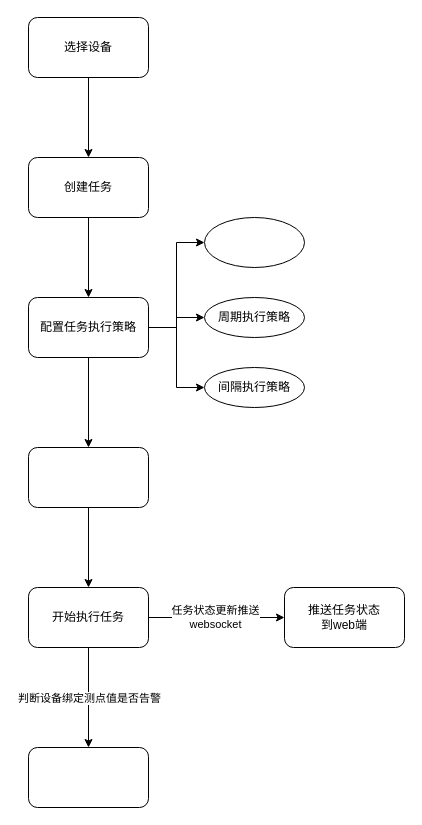
Image size: 422x825. Some labels were removed from this diagram. Here are the shapes that lost their labels. From the top down, the box of each, then its label:
(204, 216, 304, 268): 定期执行策略
(28, 446, 148, 508): 根据执行策略动态 生成任务执行记录
(28, 746, 148, 808): 写入测点告警记录
